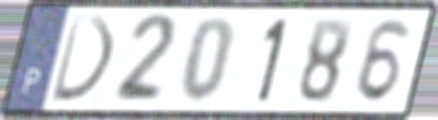0: (177, 15, 238, 106)
1: (255, 17, 290, 104)
2: (113, 11, 181, 108)
6: (352, 16, 412, 106)
8: (295, 15, 353, 106)
D: (47, 13, 119, 106)
